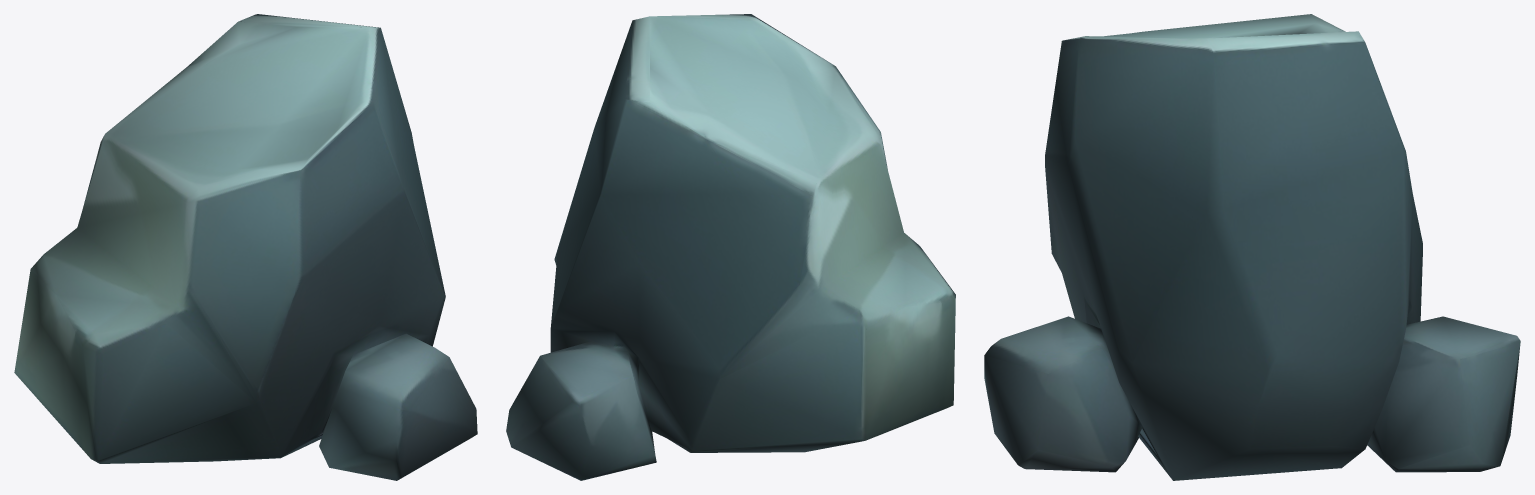
3 views of the same model, side by side, from view 1: azimuth 30°, elevation 25°; view 2: azimuth 150°, elevation 25°; view 3: azimuth 270°, elevation 25° (orthographic). The views are drawn at different scales.
Visible parts, largest first — view 1: forest-rock-3; view 2: forest-rock-3; view 3: forest-rock-3.
Part boxes in pixels (<box>): forest-rock-3: <box>14,14,477,480</box>; forest-rock-3: <box>506,14,955,480</box>; forest-rock-3: <box>984,14,1520,480</box>.
Bounding box in the file's own units: 0.2689 × 0.2564 × 0.287.
1 material, 1 textured.
